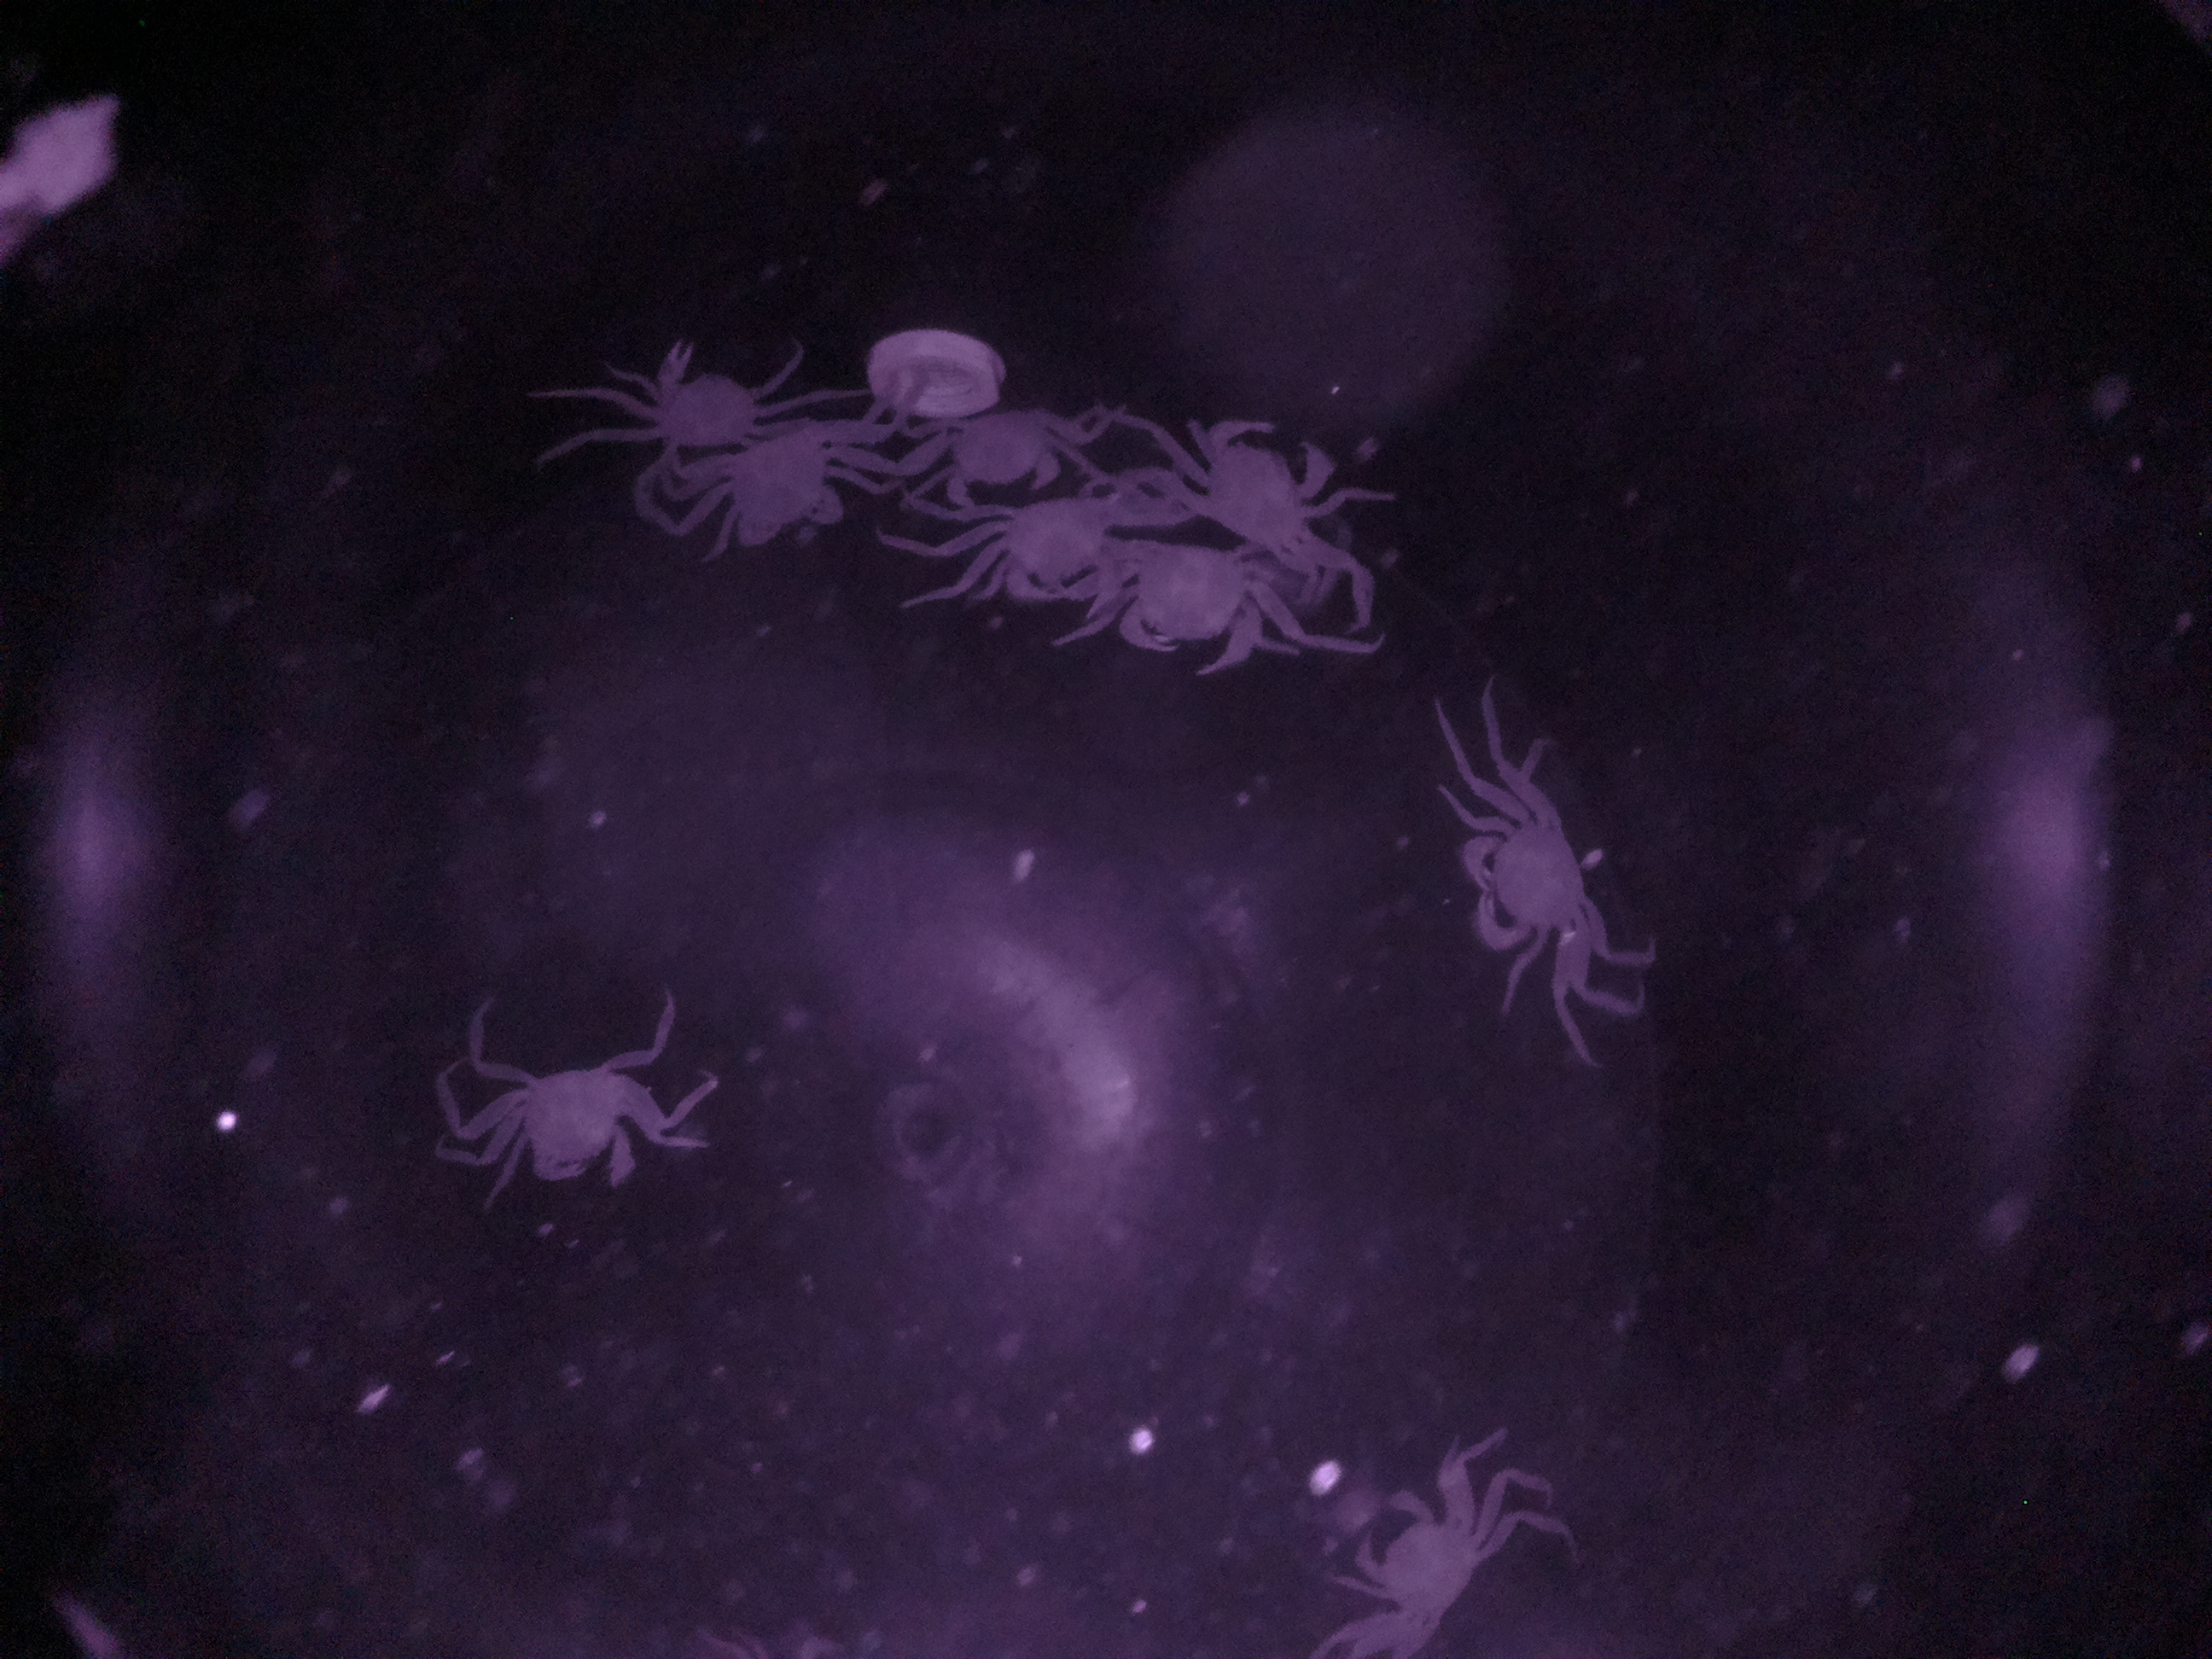Crab: (1430, 765, 1627, 997), (474, 1021, 665, 1222), (1322, 1464, 1515, 1650)
